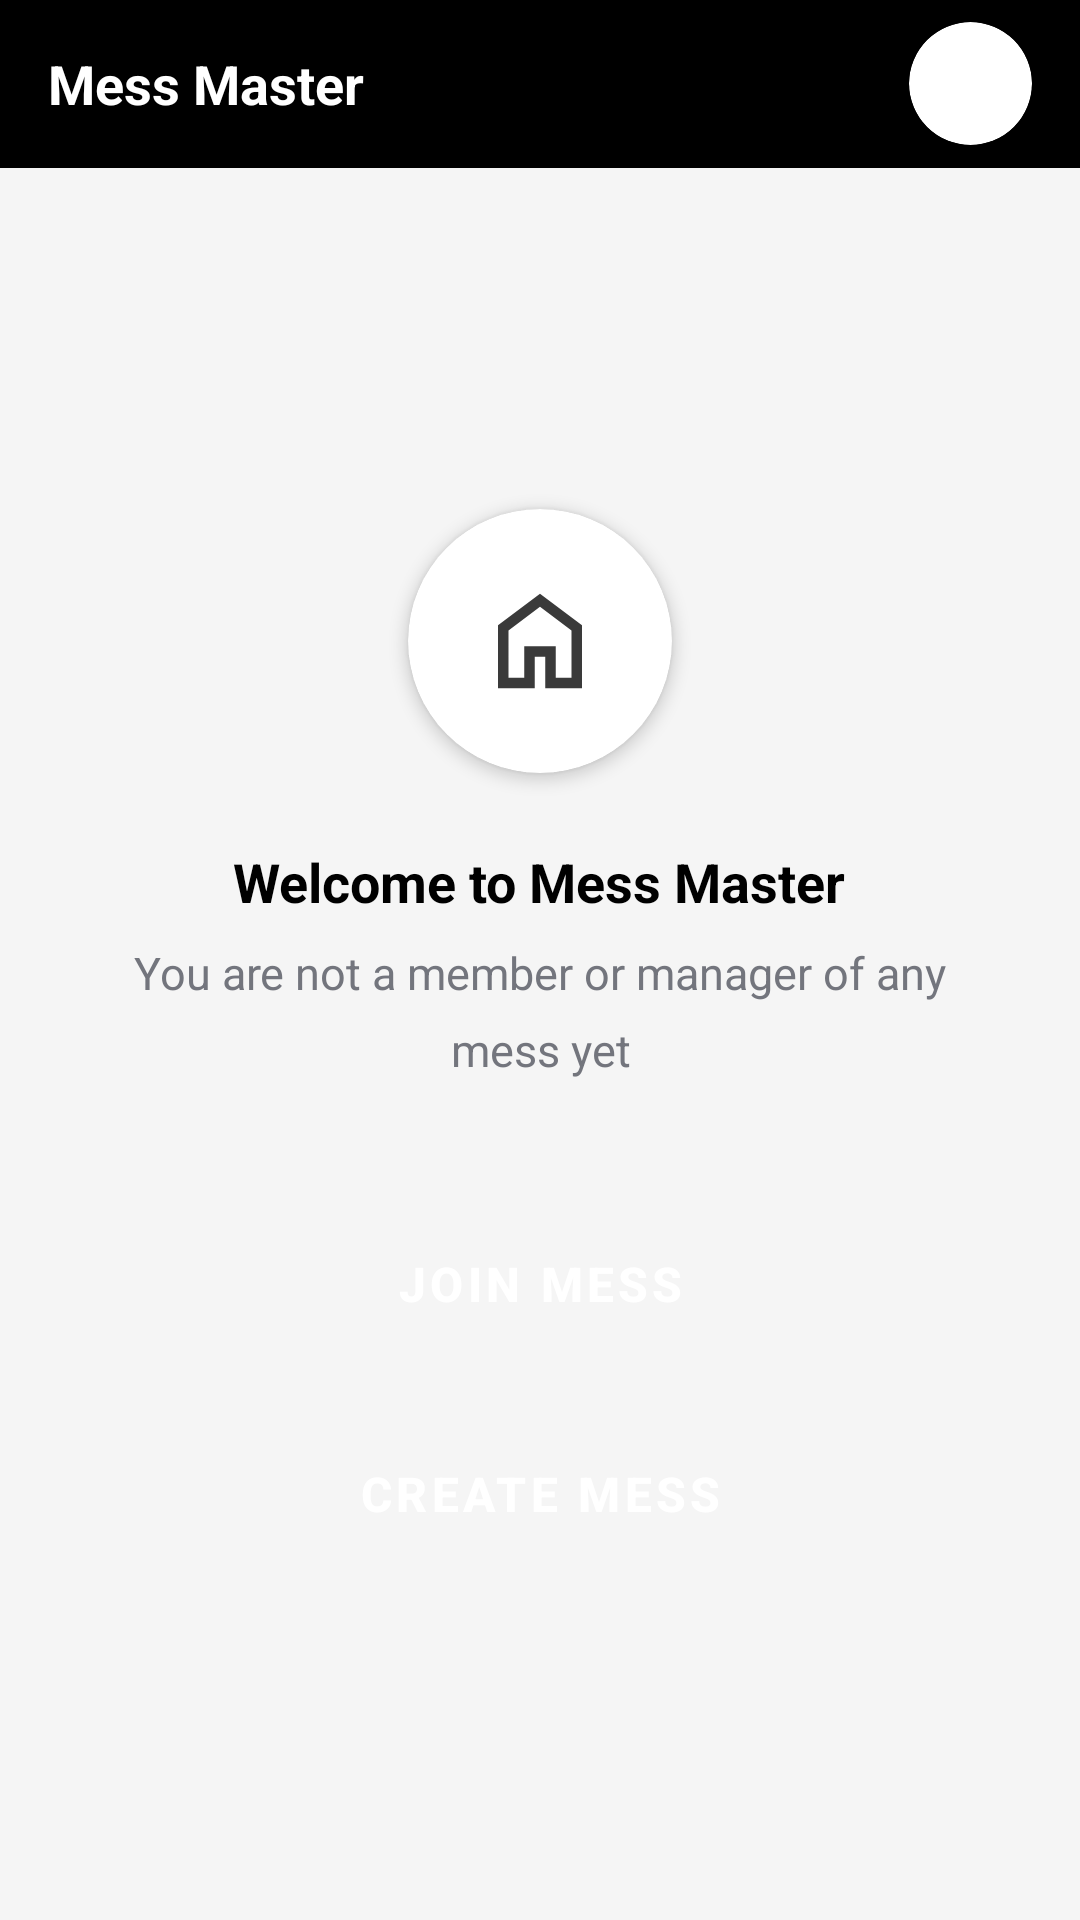

Where icons sit on this 1080px x 1920px app screen, as [left=x1, top=y1, right=x2, bottom=y2]:
Home Icon: [left=498, top=594, right=582, bottom=689]
